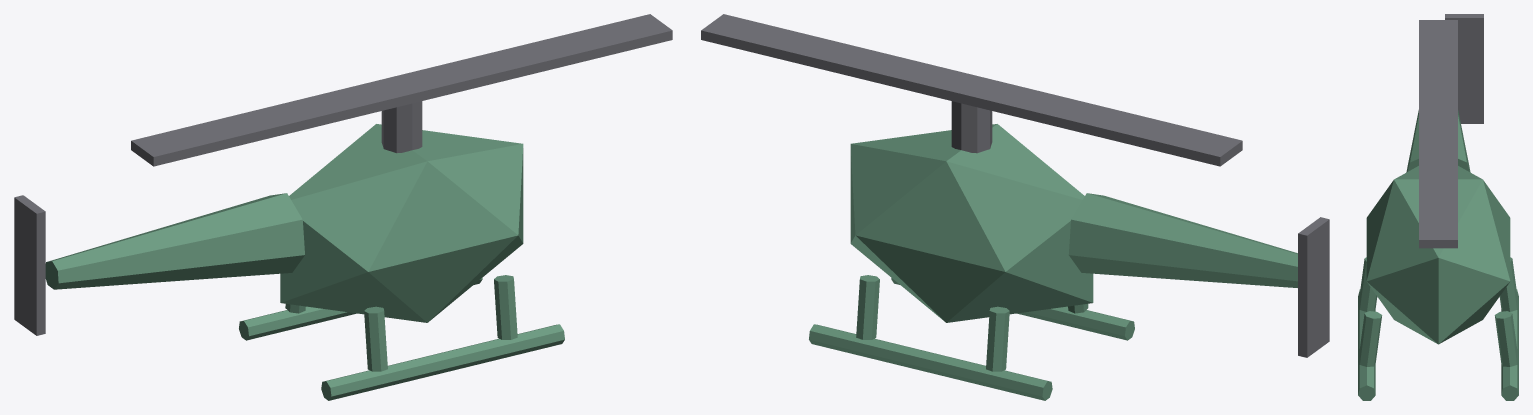
The picture shows the model from 3 angles, left to right: view 1: azimuth 30°, elevation 25°; view 2: azimuth 150°, elevation 25°; view 3: azimuth 270°, elevation 25°; orthographic projection. The views are drawn at different scales.
Visible parts, largest first — view 1: part0, part3, part1, part6, part4, part2, part5, part10, part9; view 2: part0, part3, part1, part5, part4, part2, part6, part8, part7; view 3: part0, part3, part4, part7, part9, part5, part6, part1, part8, part10.
Boxes of the visible parts, x1=… form: part0: x1=280, y1=124, x2=523, y2=322; part3: x1=131, y1=14, x2=672, y2=166; part1: x1=45, y1=193, x2=304, y2=289; part6: x1=321, y1=324, x2=564, y2=400; part4: x1=14, y1=195, x2=45, y2=335; part2: x1=381, y1=101, x2=422, y2=153; part5: x1=239, y1=278, x2=482, y2=340; part10: x1=364, y1=306, x2=387, y2=371; part9: x1=494, y1=275, x2=517, y2=339; part0: x1=850, y1=124, x2=1093, y2=322; part3: x1=701, y1=14, x2=1242, y2=166; part1: x1=1068, y1=193, x2=1297, y2=287; part5: x1=809, y1=324, x2=1052, y2=400; part4: x1=1298, y1=217, x2=1329, y2=357; part2: x1=951, y1=101, x2=992, y2=153; part6: x1=891, y1=278, x2=1134, y2=340; part8: x1=986, y1=306, x2=1009, y2=371; part7: x1=856, y1=275, x2=879, y2=339; part0: x1=1366, y1=166, x2=1510, y2=344; part3: x1=1419, y1=20, x2=1457, y2=248; part4: x1=1445, y1=14, x2=1483, y2=123; part7: x1=1494, y1=311, x2=1518, y2=366; part9: x1=1358, y1=311, x2=1382, y2=366; part5: x1=1501, y1=289, x2=1518, y2=400; part6: x1=1358, y1=289, x2=1375, y2=400; part1: x1=1406, y1=110, x2=1470, y2=172; part8: x1=1499, y1=257, x2=1518, y2=311; part10: x1=1358, y1=257, x2=1377, y2=311.
Bounding box in the file's own units: 4.79 × 1.88 × 1.24.
